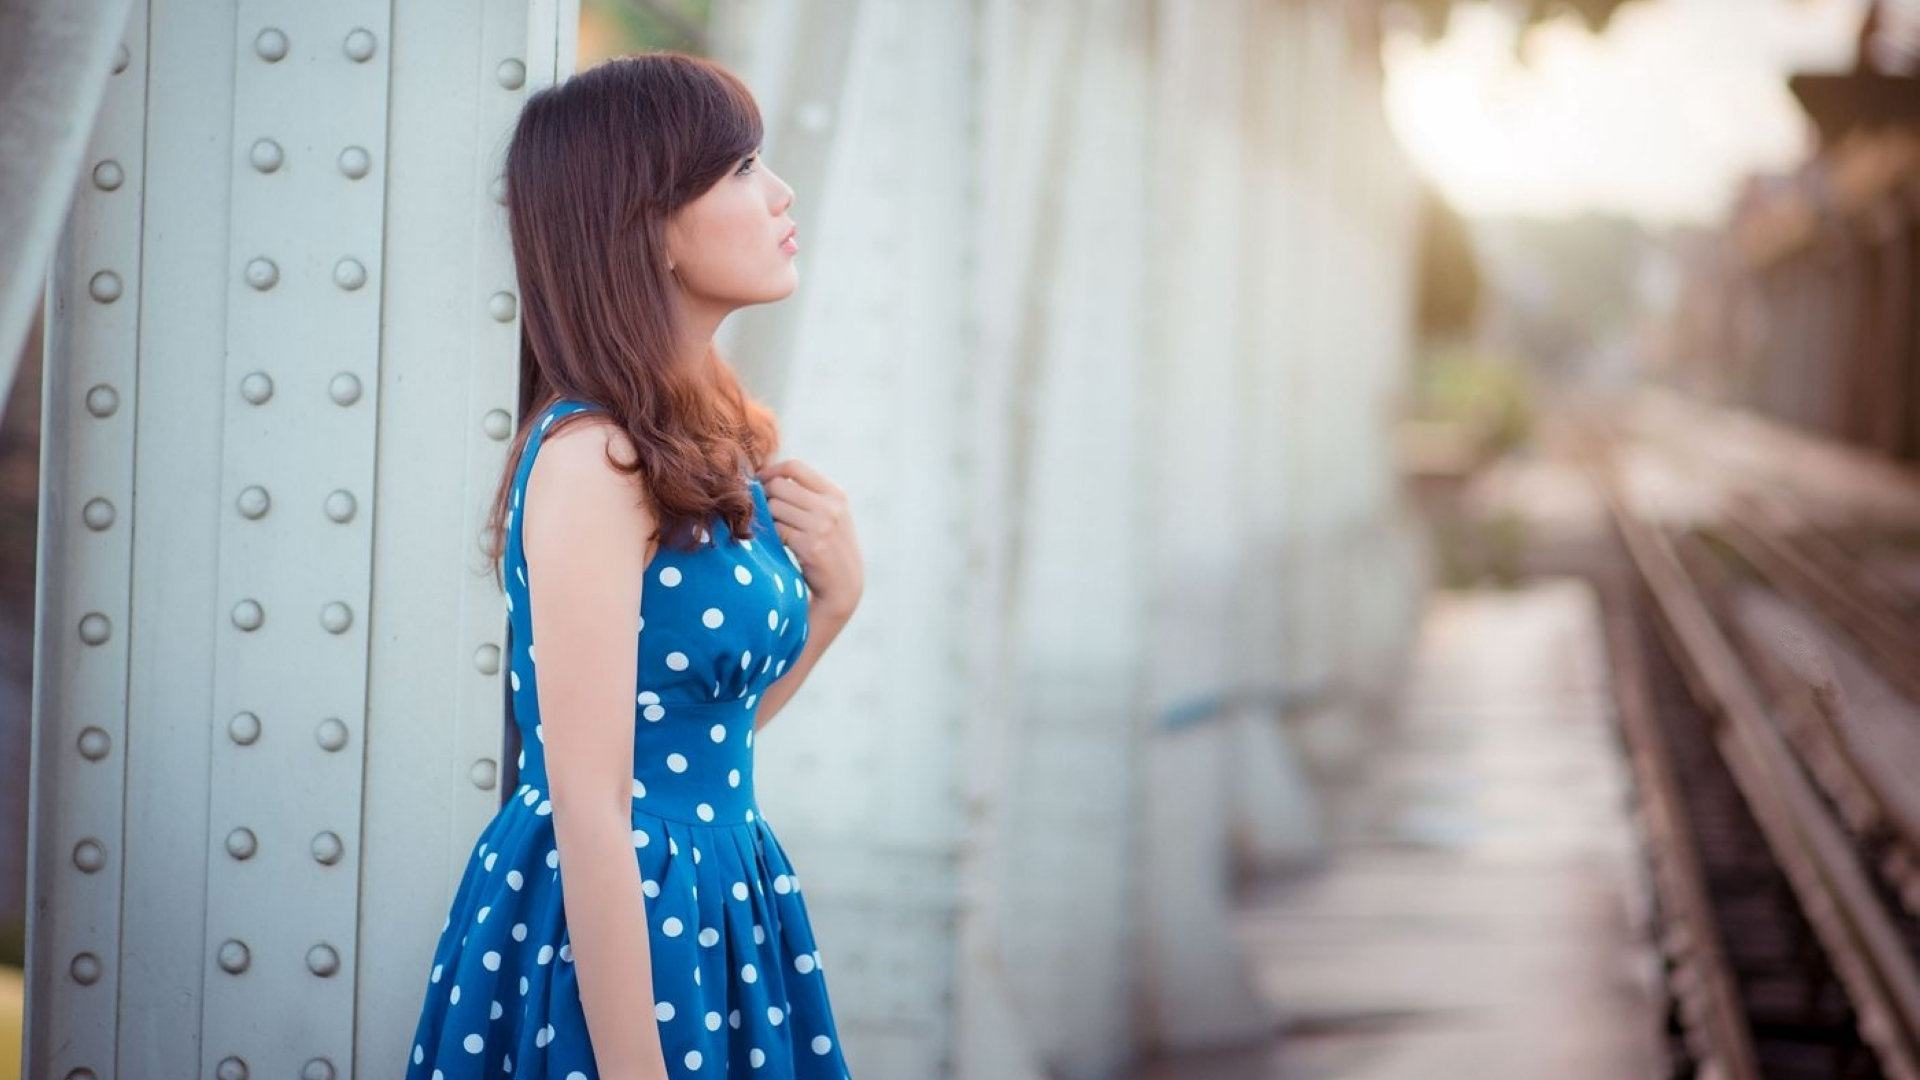person: (452, 23, 1054, 948)
